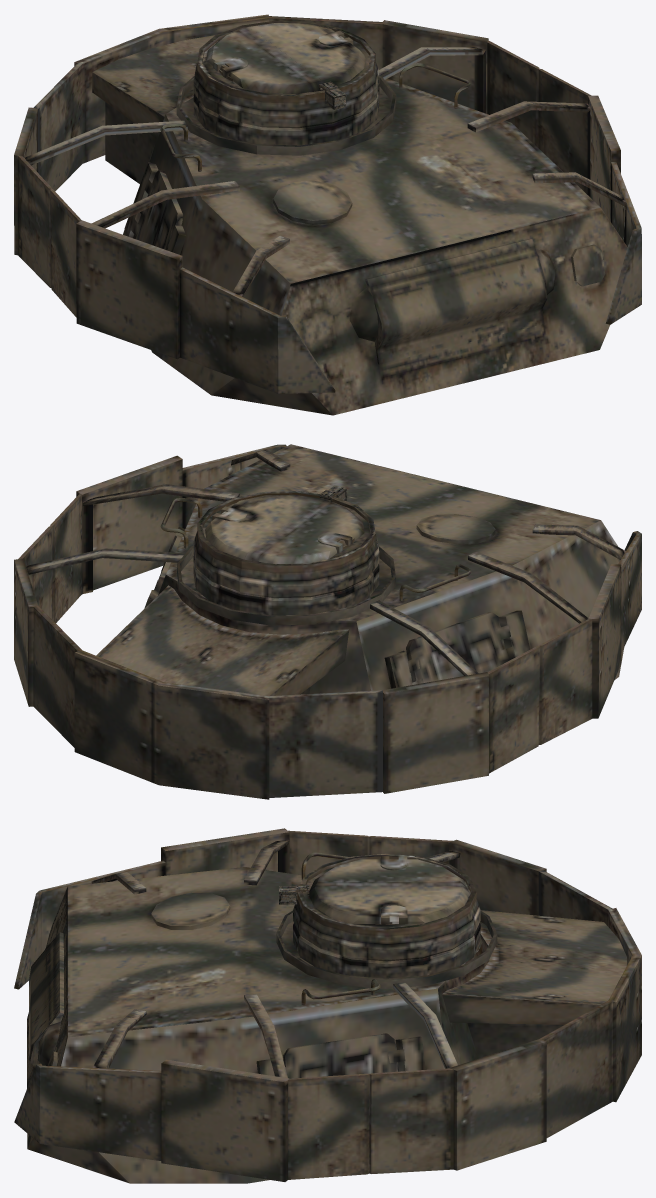
Rendered from Turret.fbx.
3 views of the same model, one above another, from view 1: azimuth 30°, elevation 25°; view 2: azimuth 150°, elevation 25°; view 3: azimuth 270°, elevation 25° (orthographic).
Parts seen in each view (by area): view 1: Turret; view 2: Turret; view 3: Turret.
Part boxes in pixels (x1=…): Turret: x1=14, y1=14, x2=641, y2=415; Turret: x1=14, y1=444, x2=641, y2=799; Turret: x1=14, y1=828, x2=641, y2=1183.
Bounding box in the file's own units: 289 × 104 × 301.
